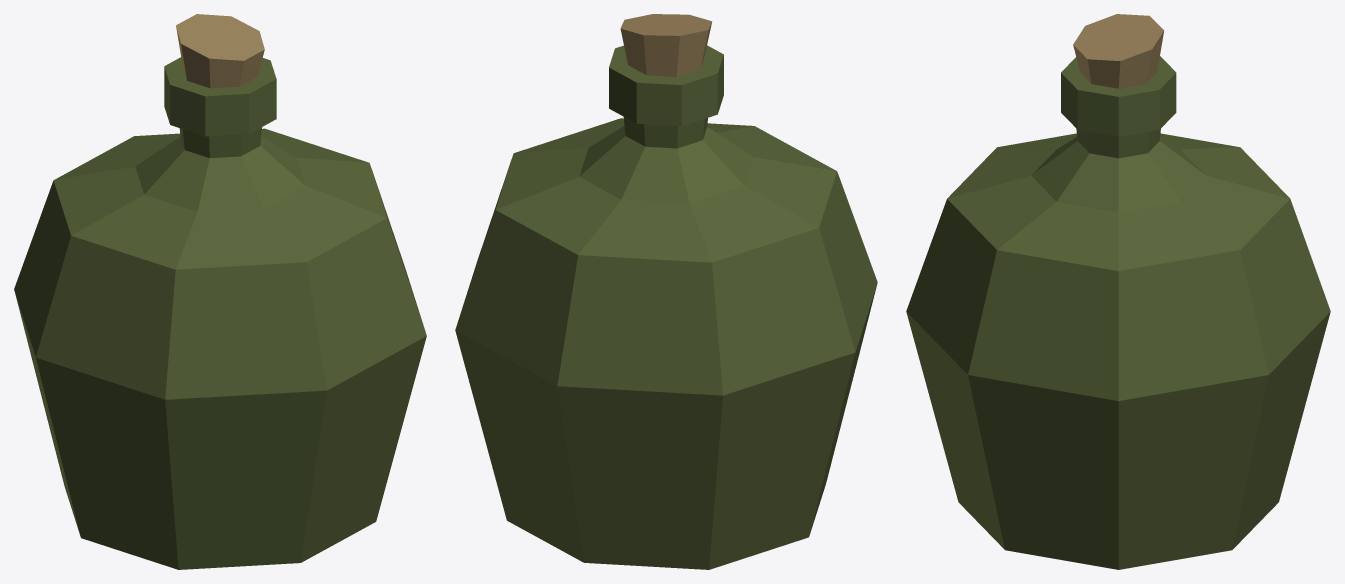
Rendered from Bottiglia1.fbx.
The picture shows the model from 3 angles, left to right: view 1: azimuth 30°, elevation 25°; view 2: azimuth 150°, elevation 25°; view 3: azimuth 270°, elevation 25°; orthographic projection. The views are drawn at different scales.
Visible parts, largest first — view 1: SM_Item_Bottle_02; view 2: SM_Item_Bottle_02; view 3: SM_Item_Bottle_02.
Part boxes in pixels (x1,y1,x2,y2): SM_Item_Bottle_02: (14,14,426,569); SM_Item_Bottle_02: (455,14,877,569); SM_Item_Bottle_02: (906,14,1330,569).
Size of the model in its own units: 20.63 by 25.33 by 20.63.
1 material, 1 textured.
